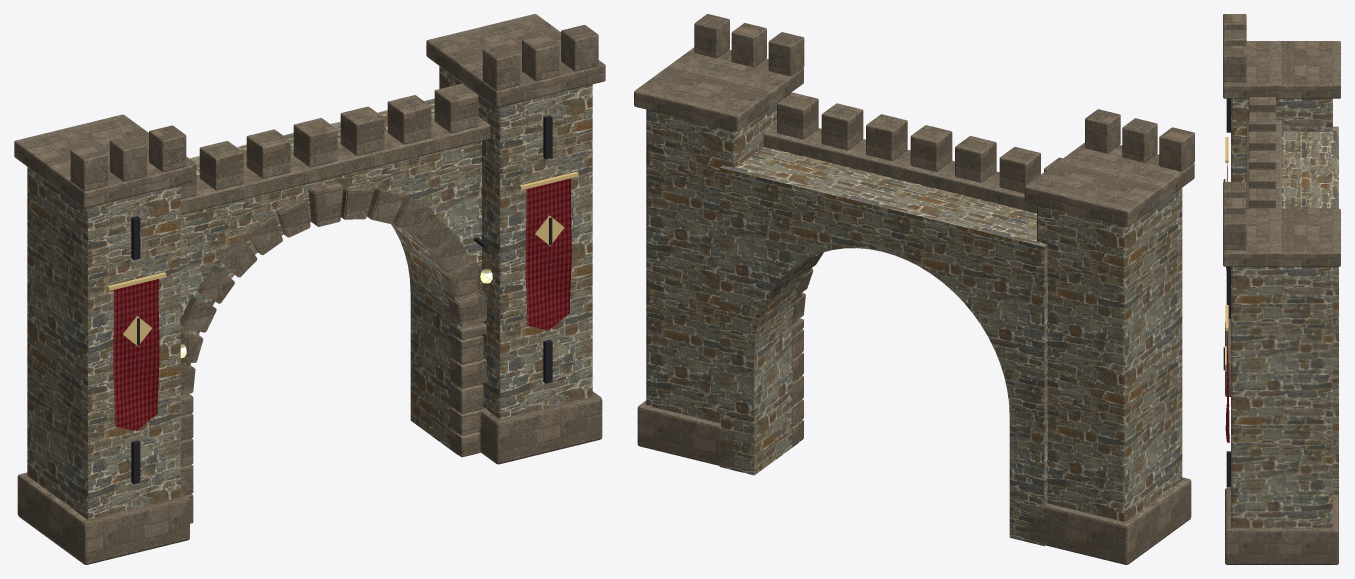
The model's file is fachada_02.glb.
3 views of the same model, side by side, from view 1: azimuth 30°, elevation 25°; view 2: azimuth 150°, elevation 25°; view 3: azimuth 270°, elevation 25° (orthographic). The views are drawn at different scales.
Parts seen in each view (by area): view 1: F02_torre-1, F02_torre1, F02_muralha, F02_base-1, F02_coroa-1, F02_coroa1, F02_cornija, F02_estandarte1, F02_estandarte-1, F02_base1, F02_ameia_5, F02_ameia_6 (+26 smaller); view 2: F02_muralha, F02_torre-1, F02_torre1, F02_coroa-1, F02_coroa1, F02_base-1, F02_cornija, F02_base1, F02_ameia_5, F02_ameia_3, F02_ameia_2, F02_ameia_4 (+8 smaller); view 3: F02_torre1, F02_coroa1, F02_coroa-1, F02_muralha, F02_base1, F02_torre-1, F02_tameia1_2, F02_tameia-1_2, F02_cornija, F02_ameia_1, F02_ameia_2, F02_ameia_3 (+12 smaller).
Part boxes in pixels (left/top/right/bottom): F02_torre-1: left=27, top=167, right=180, bottom=519; F02_torre1: left=439, top=66, right=592, bottom=418; F02_muralha: left=180, top=98, right=481, bottom=454; F02_base-1: left=17, top=472, right=189, bottom=564; F02_coroa-1: left=14, top=114, right=193, bottom=207; F02_coroa1: left=426, top=14, right=605, bottom=107; F02_cornija: left=180, top=116, right=490, bottom=214; F02_estandarte1: left=525, top=178, right=571, bottom=330; F02_estandarte-1: left=113, top=279, right=159, bottom=430; F02_base1: left=479, top=391, right=602, bottom=464; F02_ameia_5: left=387, top=95, right=431, bottom=144; F02_ameia_6: left=434, top=83, right=478, bottom=132; F02_muralha: left=719, top=146, right=1047, bottom=546; F02_torre-1: left=1037, top=188, right=1182, bottom=521; F02_torre1: left=646, top=92, right=791, bottom=422; F02_coroa-1: left=1024, top=143, right=1194, bottom=226; F02_coroa1: left=634, top=47, right=803, bottom=131; F02_base-1: left=1029, top=477, right=1191, bottom=564; F02_cornija: left=763, top=124, right=1036, bottom=212; F02_base1: left=637, top=401, right=734, bottom=467; F02_ameia_5: left=821, top=103, right=863, bottom=150; F02_ameia_3: left=910, top=125, right=952, bottom=171; F02_ameia_2: left=955, top=136, right=996, bottom=182; F02_ameia_4: left=866, top=114, right=907, bottom=160; F02_torre1: left=1231, top=266, right=1332, bottom=527; F02_coroa1: left=1223, top=208, right=1340, bottom=266; F02_coroa-1: left=1223, top=41, right=1340, bottom=98; F02_muralha: left=1282, top=126, right=1338, bottom=495; F02_base1: left=1225, top=488, right=1338, bottom=564; F02_torre-1: left=1231, top=98, right=1332, bottom=182; F02_tameia1_2: left=1223, top=213, right=1246, bottom=249; F02_tameia-1_2: left=1223, top=46, right=1246, bottom=81; F02_cornija: left=1246, top=120, right=1281, bottom=208; F02_ameia_1: left=1248, top=112, right=1275, bottom=131; F02_ameia_2: left=1248, top=131, right=1275, bottom=150; F02_ameia_3: left=1248, top=150, right=1275, bottom=169.
Bounding box in the file's own units: 12.8 × 9.55 × 3.
Materials: 7 (4 with a texture image).
